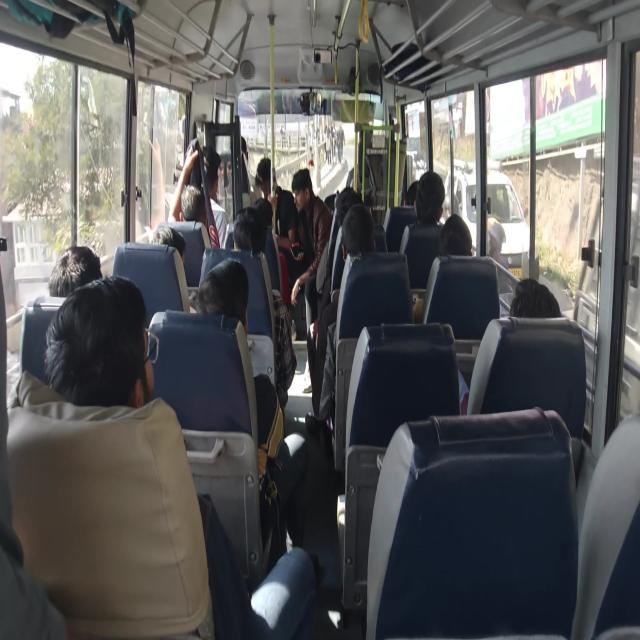person: (75, 299, 162, 412), (195, 256, 249, 339), (49, 247, 108, 318), (509, 277, 565, 330), (140, 221, 186, 271), (339, 203, 369, 264), (176, 176, 209, 229), (441, 214, 472, 265), (220, 209, 255, 253), (415, 177, 444, 230), (292, 164, 314, 215), (199, 148, 220, 200), (332, 187, 362, 222), (253, 158, 276, 197), (248, 198, 275, 228), (405, 180, 424, 210), (235, 134, 249, 169)
